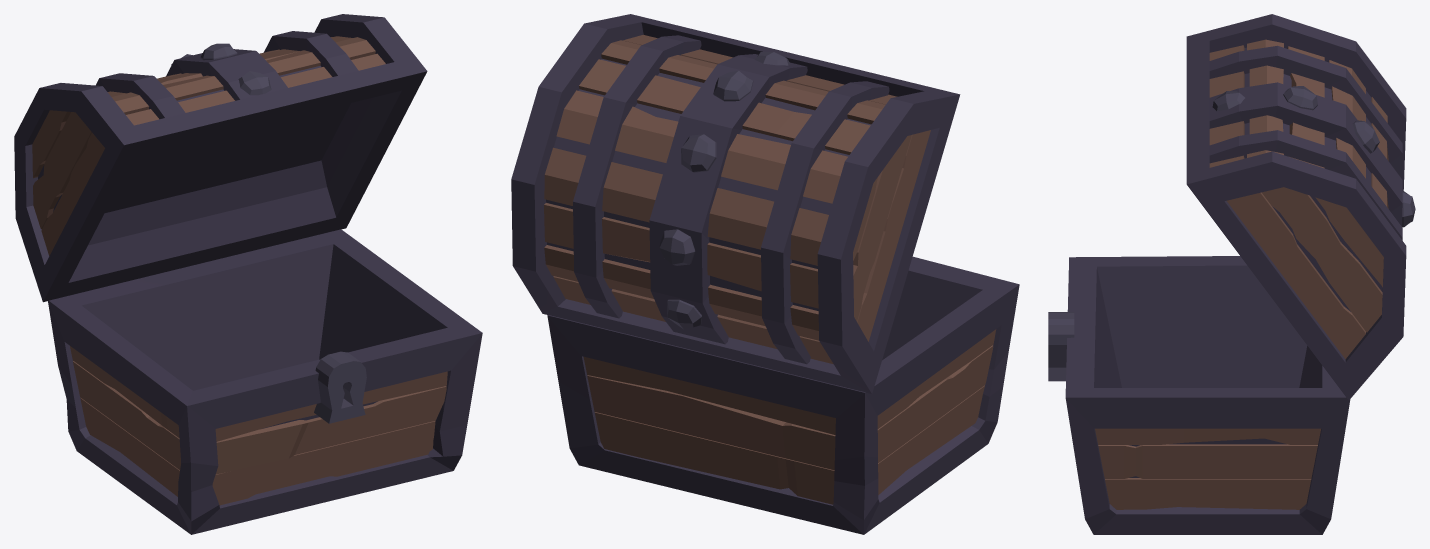
Rendered from chest_prop_open.glb.
3 views of the same model, side by side, from view 1: azimuth 30°, elevation 25°; view 2: azimuth 150°, elevation 25°; view 3: azimuth 270°, elevation 25° (orthographic). The views are drawn at different scales.
Bounding box in the file's own units: 0.9496 × 1.15 × 0.9962.
